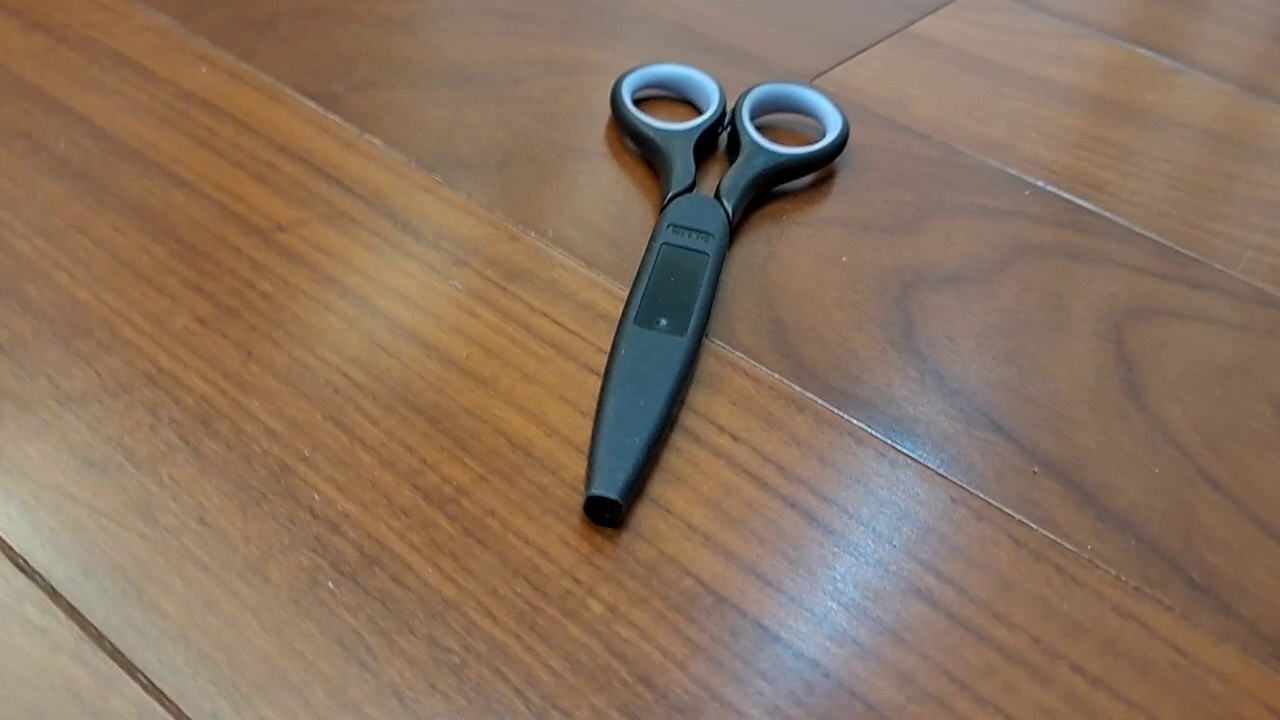scissors: (582, 60, 850, 532)
